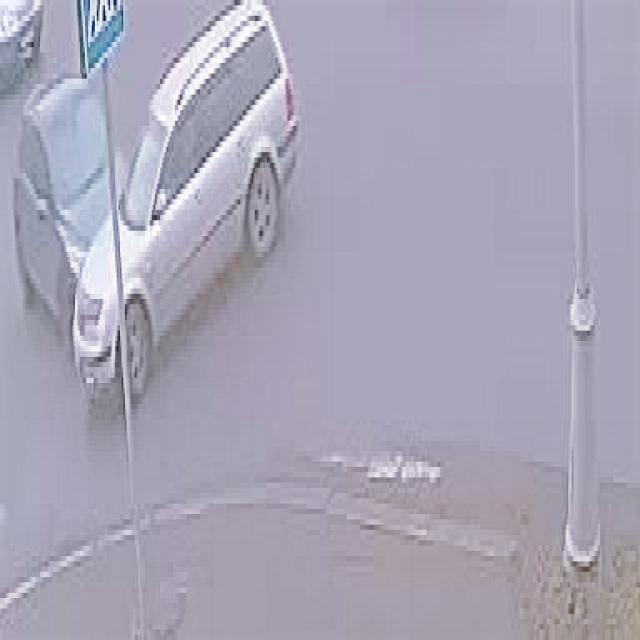Car: (75, 14, 282, 418), (18, 68, 130, 316)
Minor Accident: (15, 6, 289, 417)
